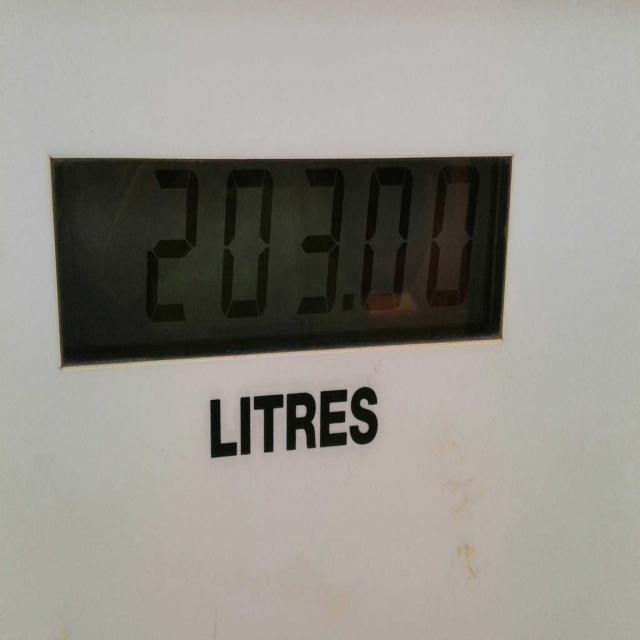.: (342, 289, 353, 312)
0: (221, 168, 274, 322), (359, 167, 408, 312), (431, 163, 478, 306)
2: (146, 172, 197, 320)
3: (300, 167, 340, 313)
